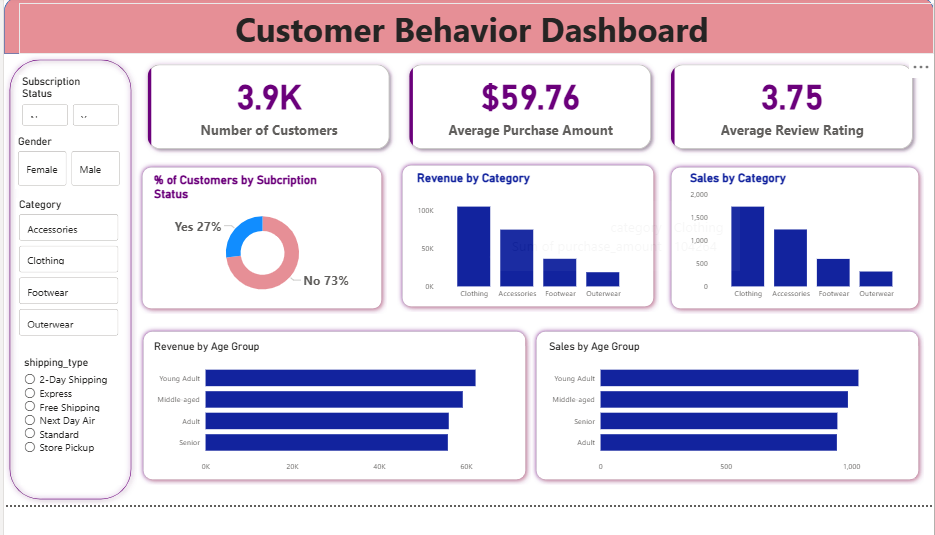

The dashboard page shown, as its layout file describes it:
{"tool":"powerbi","page":{"name":"Page 1","canvas":[1500,820],"ordinal":0},"visuals":[{"type":"cardVisual","fields":{"Data":["project customer.Number of Customers","project customer.Average Purchase Amount","project customer.Average Review Rating"]},"box":[214.5,91.9,1269.4,171],"z":0},{"type":"shape","box":[0,0,1500,91.9],"z":1000},{"type":"textbox","box":[24.2,9.7,1475.8,82.3],"z":2000},{"type":"shape","box":[214.5,266.1,403.2,245.2],"z":3000},{"type":"donutChart","title":"% of Customers by Subcription Status","fields":{"Category":["project customer.subscription_status"],"Y":["CountNonNull(project customer.customer_id)"]},"box":[237.1,283.9,359.7,209.7],"z":4000},{"type":"shape","box":[633.9,262.9,422.6,245.2],"z":5000},{"type":"shape","box":[1067.7,266.1,416.1,245.2],"z":6000},{"type":"clusteredColumnChart","title":"Revenue by Category","fields":{"Y":["Sum(project customer.purchase_amount)"],"Category":["project customer.category"]},"box":[661.3,280.6,366.1,216.1],"z":7000},{"type":"clusteredColumnChart","title":"Sales by Category","fields":{"Y":["CountNonNull(project customer.customer_id)"],"Category":["project customer.category"]},"box":[1101.6,280.6,366.1,216.1],"z":8000},{"type":"shape","box":[0,91.9,214.5,727.4],"z":9000},{"type":"advancedSlicerVisual","title":"Subscription Status","fields":{"Values":["project customer.subscription_status"]},"box":[24.2,125.8,167.7,87.1],"z":10000},{"type":"advancedSlicerVisual","title":"Gender","fields":{"Values":["project customer.gender"]},"box":[17.7,222.6,174.2,87.1],"z":11000},{"type":"advancedSlicerVisual","title":"Category","fields":{"Values":["project customer.category"]},"box":[19.4,324.2,171,229],"z":12000},{"type":"listSlicer","fields":{"Values":["project customer.shipping_type"]},"box":[27.4,579,162.9,208.1],"z":13000},{"type":"clusteredBarChart","fields":{"Y":["Sum(project customer.purchase_amount)"],"Category":["project customer.age_group"]},"box":[237.1,553.2,525.8,200],"z":14000},{"type":"shape","box":[216.1,530.6,633.9,256.5],"z":15000},{"type":"clusteredBarChart","title":"Revenue by Age Group","fields":{"Y":["Sum(project customer.purchase_amount)"],"Category":["project customer.age_group"]},"box":[237.1,553.2,593.5,222.6],"z":16000},{"type":"shape","box":[850,530.6,633.9,256.5],"z":17000},{"type":"clusteredBarChart","title":"Sales by Age Group","fields":{"Y":["CountNonNull(project customer.customer_id)"],"Category":["project customer.age_group"]},"box":[874.2,553.2,593.5,222.6],"z":18000}]}

Visuals, with their boxes on the page's 1500x820 design canvas (x1, y1, x2, y2). These are canvas units, not pixel positions in the 935x535 screenshot, which may show the page scaled, cropped or inside an application window:
cardVisual - project customer.Number of Customers x project customer.Average Purchase Amount: x1=214 y1=92 x2=1484 y2=263
shape: x1=0 y1=0 x2=1500 y2=92
textbox: x1=24 y1=10 x2=1500 y2=92
shape: x1=214 y1=266 x2=618 y2=511
"% of Customers by Subcription Status" donutChart: x1=237 y1=284 x2=597 y2=494
shape: x1=634 y1=263 x2=1056 y2=508
shape: x1=1068 y1=266 x2=1484 y2=511
"Revenue by Category" clusteredColumnChart: x1=661 y1=281 x2=1027 y2=497
"Sales by Category" clusteredColumnChart: x1=1102 y1=281 x2=1468 y2=497
shape: x1=0 y1=92 x2=214 y2=819
"Subscription Status" advancedSlicerVisual: x1=24 y1=126 x2=192 y2=213
"Gender" advancedSlicerVisual: x1=18 y1=223 x2=192 y2=310
"Category" advancedSlicerVisual: x1=19 y1=324 x2=190 y2=553
listSlicer - project customer.shipping_type: x1=27 y1=579 x2=190 y2=787
clusteredBarChart - Sum(project customer.purchase_amount) x project customer.age_group: x1=237 y1=553 x2=763 y2=753
shape: x1=216 y1=531 x2=850 y2=787
"Revenue by Age Group" clusteredBarChart: x1=237 y1=553 x2=831 y2=776
shape: x1=850 y1=531 x2=1484 y2=787
"Sales by Age Group" clusteredBarChart: x1=874 y1=553 x2=1468 y2=776
